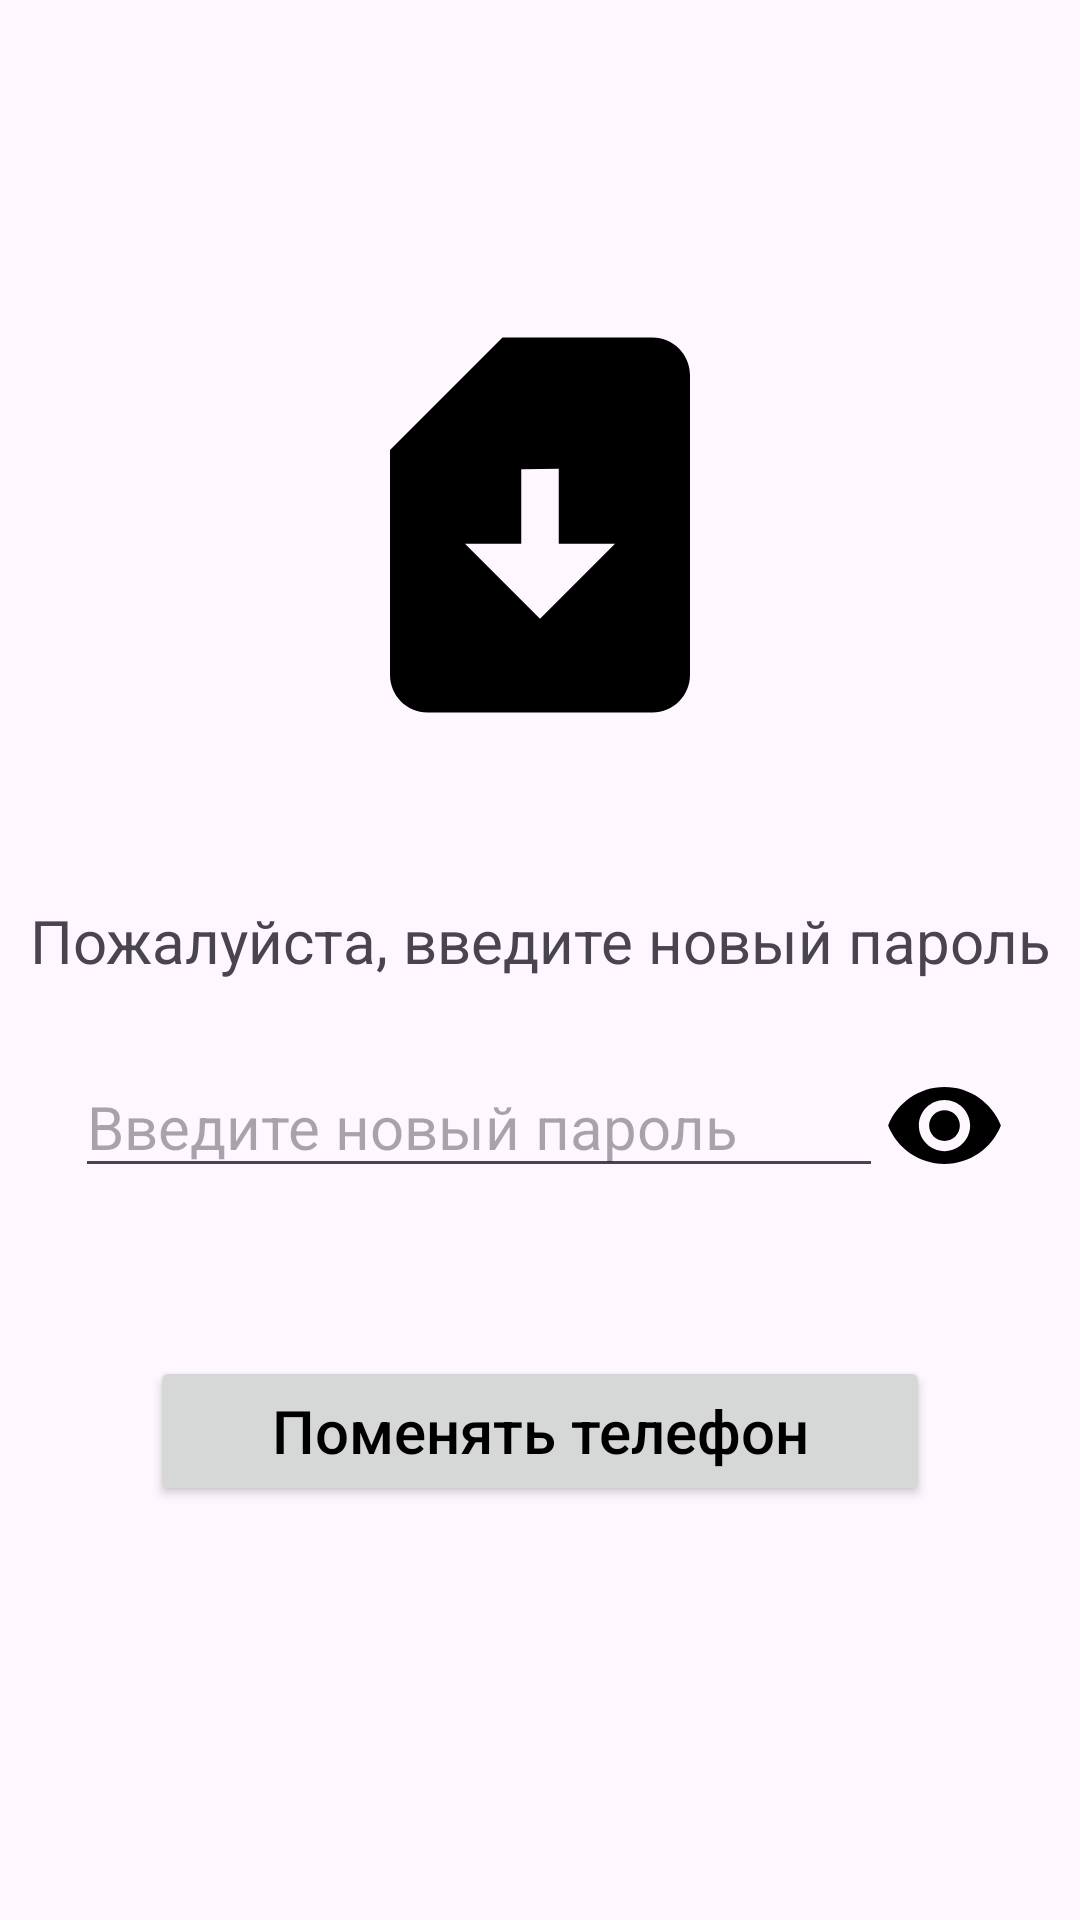

Screen size 1080 × 1920. Icon name, then its box in pixels as (x1, y1, x2, y2):
visibility: (888, 1087, 1001, 1164)
